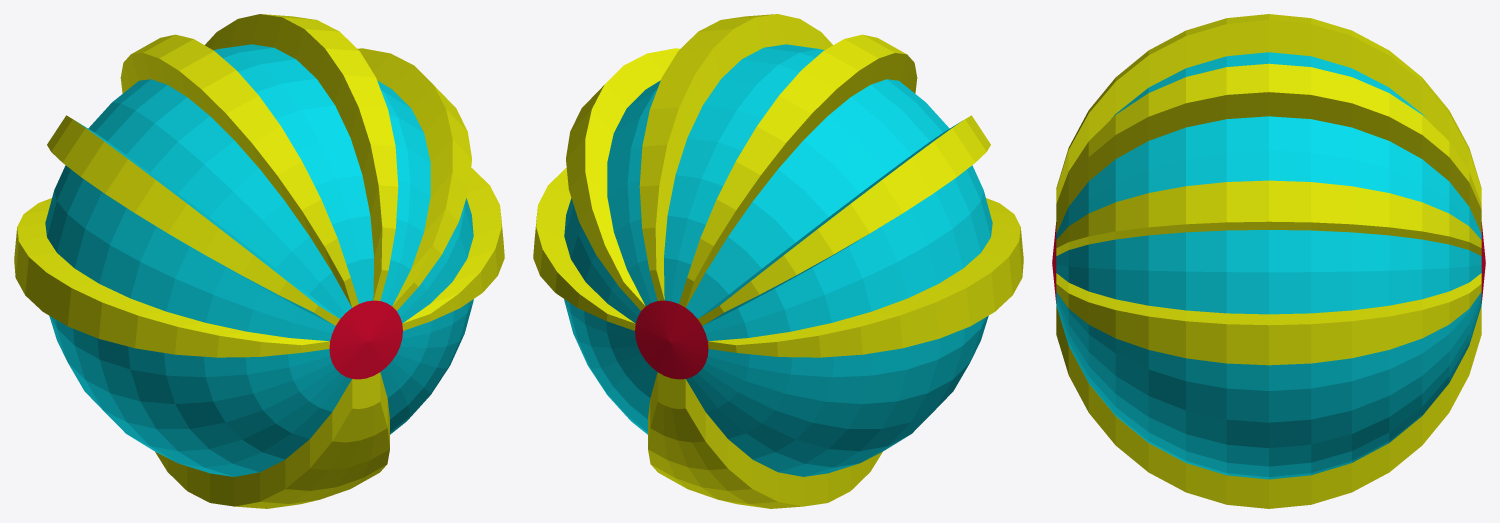
File: Ball.fbx
3 views of the same model, side by side, from view 1: azimuth 30°, elevation 25°; view 2: azimuth 150°, elevation 25°; view 3: azimuth 270°, elevation 25° (orthographic).
Parts seen in each view (by area): view 1: Sphere; view 2: Sphere; view 3: Sphere.
Part boxes in pixels (box(x1,y1,x2,y2)): Sphere: box(14, 14, 504, 508); Sphere: box(533, 14, 1023, 508); Sphere: box(1052, 14, 1485, 508).
Bounding box in the file's own units: 230 × 227 × 200.
